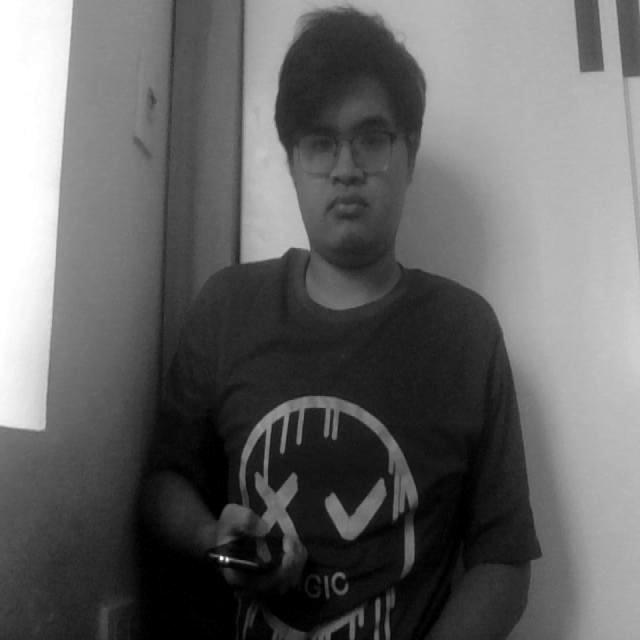phone: (204, 529, 308, 595)
